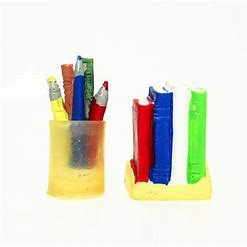pen: (94, 79, 108, 122), (75, 56, 81, 119)
